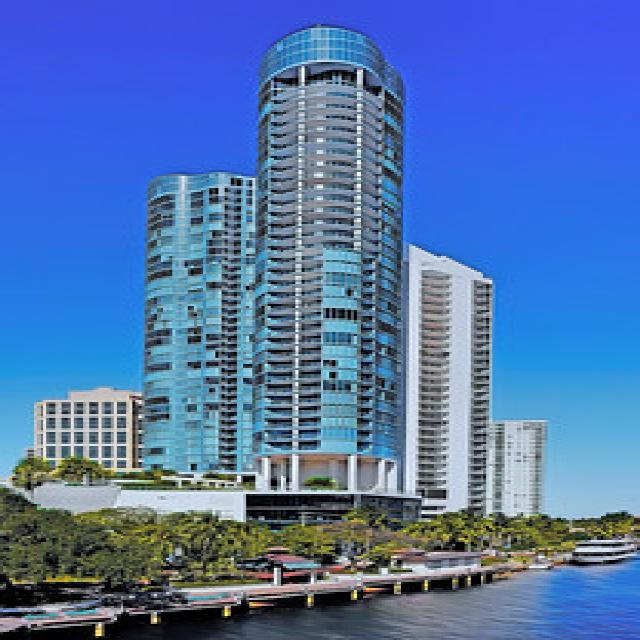building: (134, 13, 408, 515), (412, 243, 496, 531)
